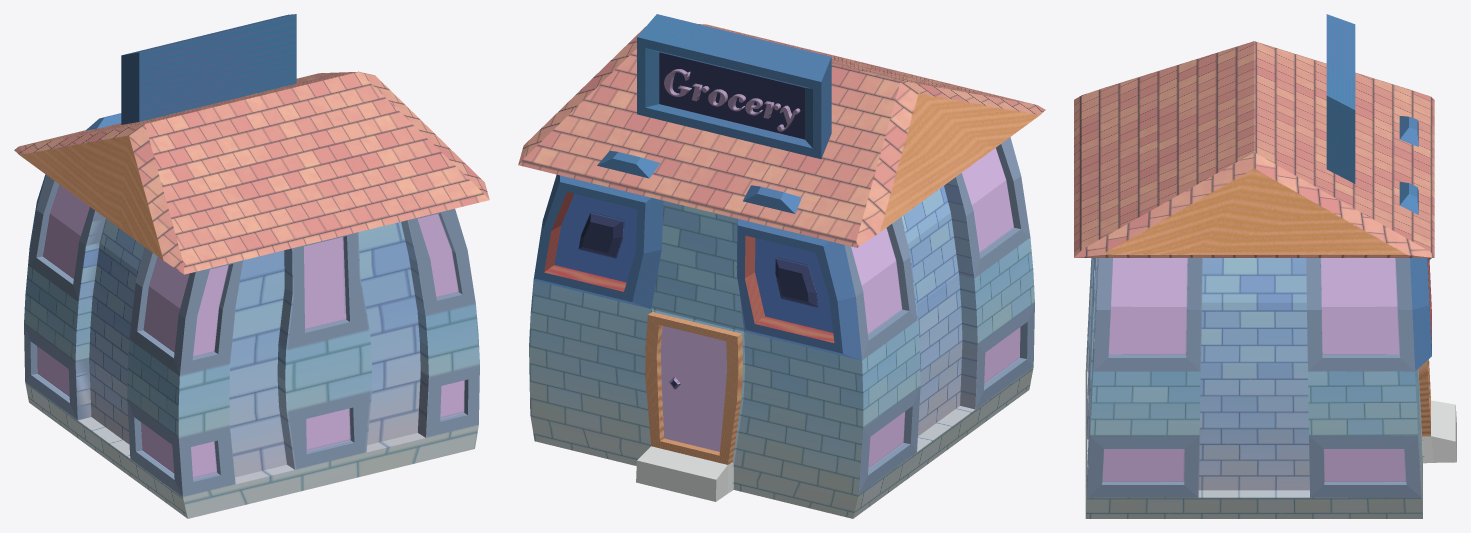
The model's file is Shop Wide.fbx.
The picture shows the model from 3 angles, left to right: view 1: azimuth 30°, elevation 25°; view 2: azimuth 150°, elevation 25°; view 3: azimuth 270°, elevation 25°; orthographic projection. The views are drawn at different scales.
Visible parts, largest first — view 1: Shop Wide; view 2: Shop Wide; view 3: Shop Wide.
Part boxes in pixels (x1,y1,x2,y2): Shop Wide: (14,14,489,518); Shop Wide: (518,14,1045,518); Shop Wide: (1074,14,1456,518).
Bounding box in the file's own units: 233 × 255 × 227.
